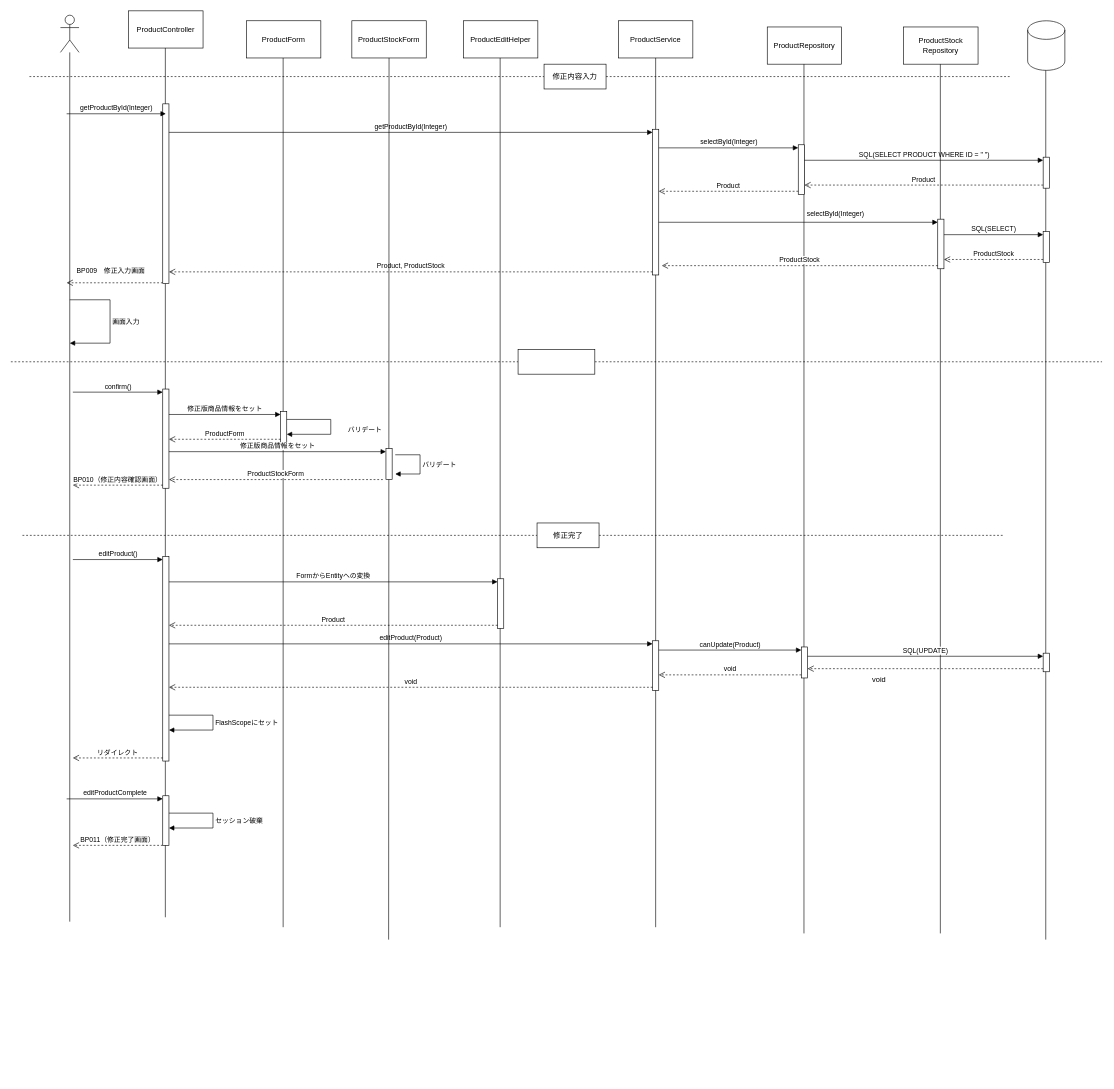
The diagram is 1114 pixels wide and 1089 high, and some of its shapes have lost their labels. Here are the shapes that lost their labels. From the top down, the centre of each, then its label:
(x=69, y=33): Actor
(x=1046, y=45): DB
(x=556, y=361): 修正内容確認
